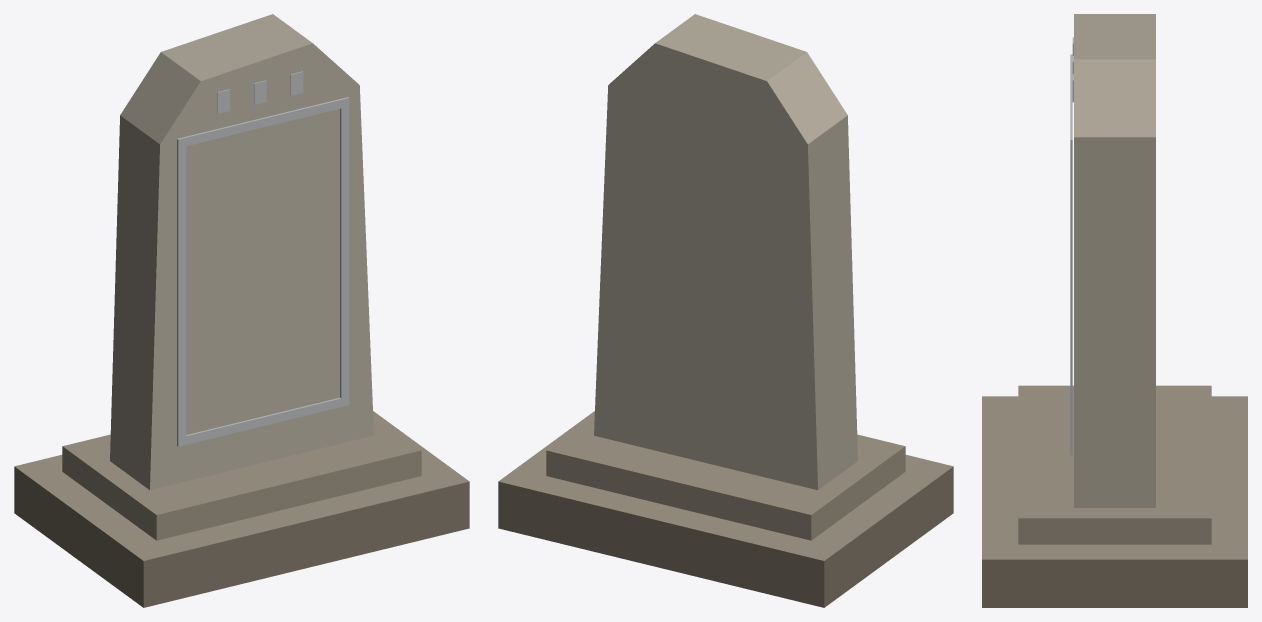
Rendered from rune_stone.glb.
3 renders of one model, left to right at view 1: azimuth 30°, elevation 25°; view 2: azimuth 150°, elevation 25°; view 3: azimuth 270°, elevation 25°, orthographic. The views are drawn at different scales.
Visible parts, largest first — view 1: rune_stone, Rune_glow; view 2: rune_stone; view 3: rune_stone, Rune_glow.
Part boxes in pixels (left/top/right/bottom): rune_stone: left=14, top=14, right=469, bottom=607; Rune_glow: left=177, top=71, right=349, bottom=446; rune_stone: left=498, top=14, right=953, bottom=607; rune_stone: left=982, top=14, right=1247, bottom=607; Rune_glow: left=1070, top=37, right=1073, bottom=455.
Bounding box in the file's own units: 1.6 × 2.25 × 1.1.
